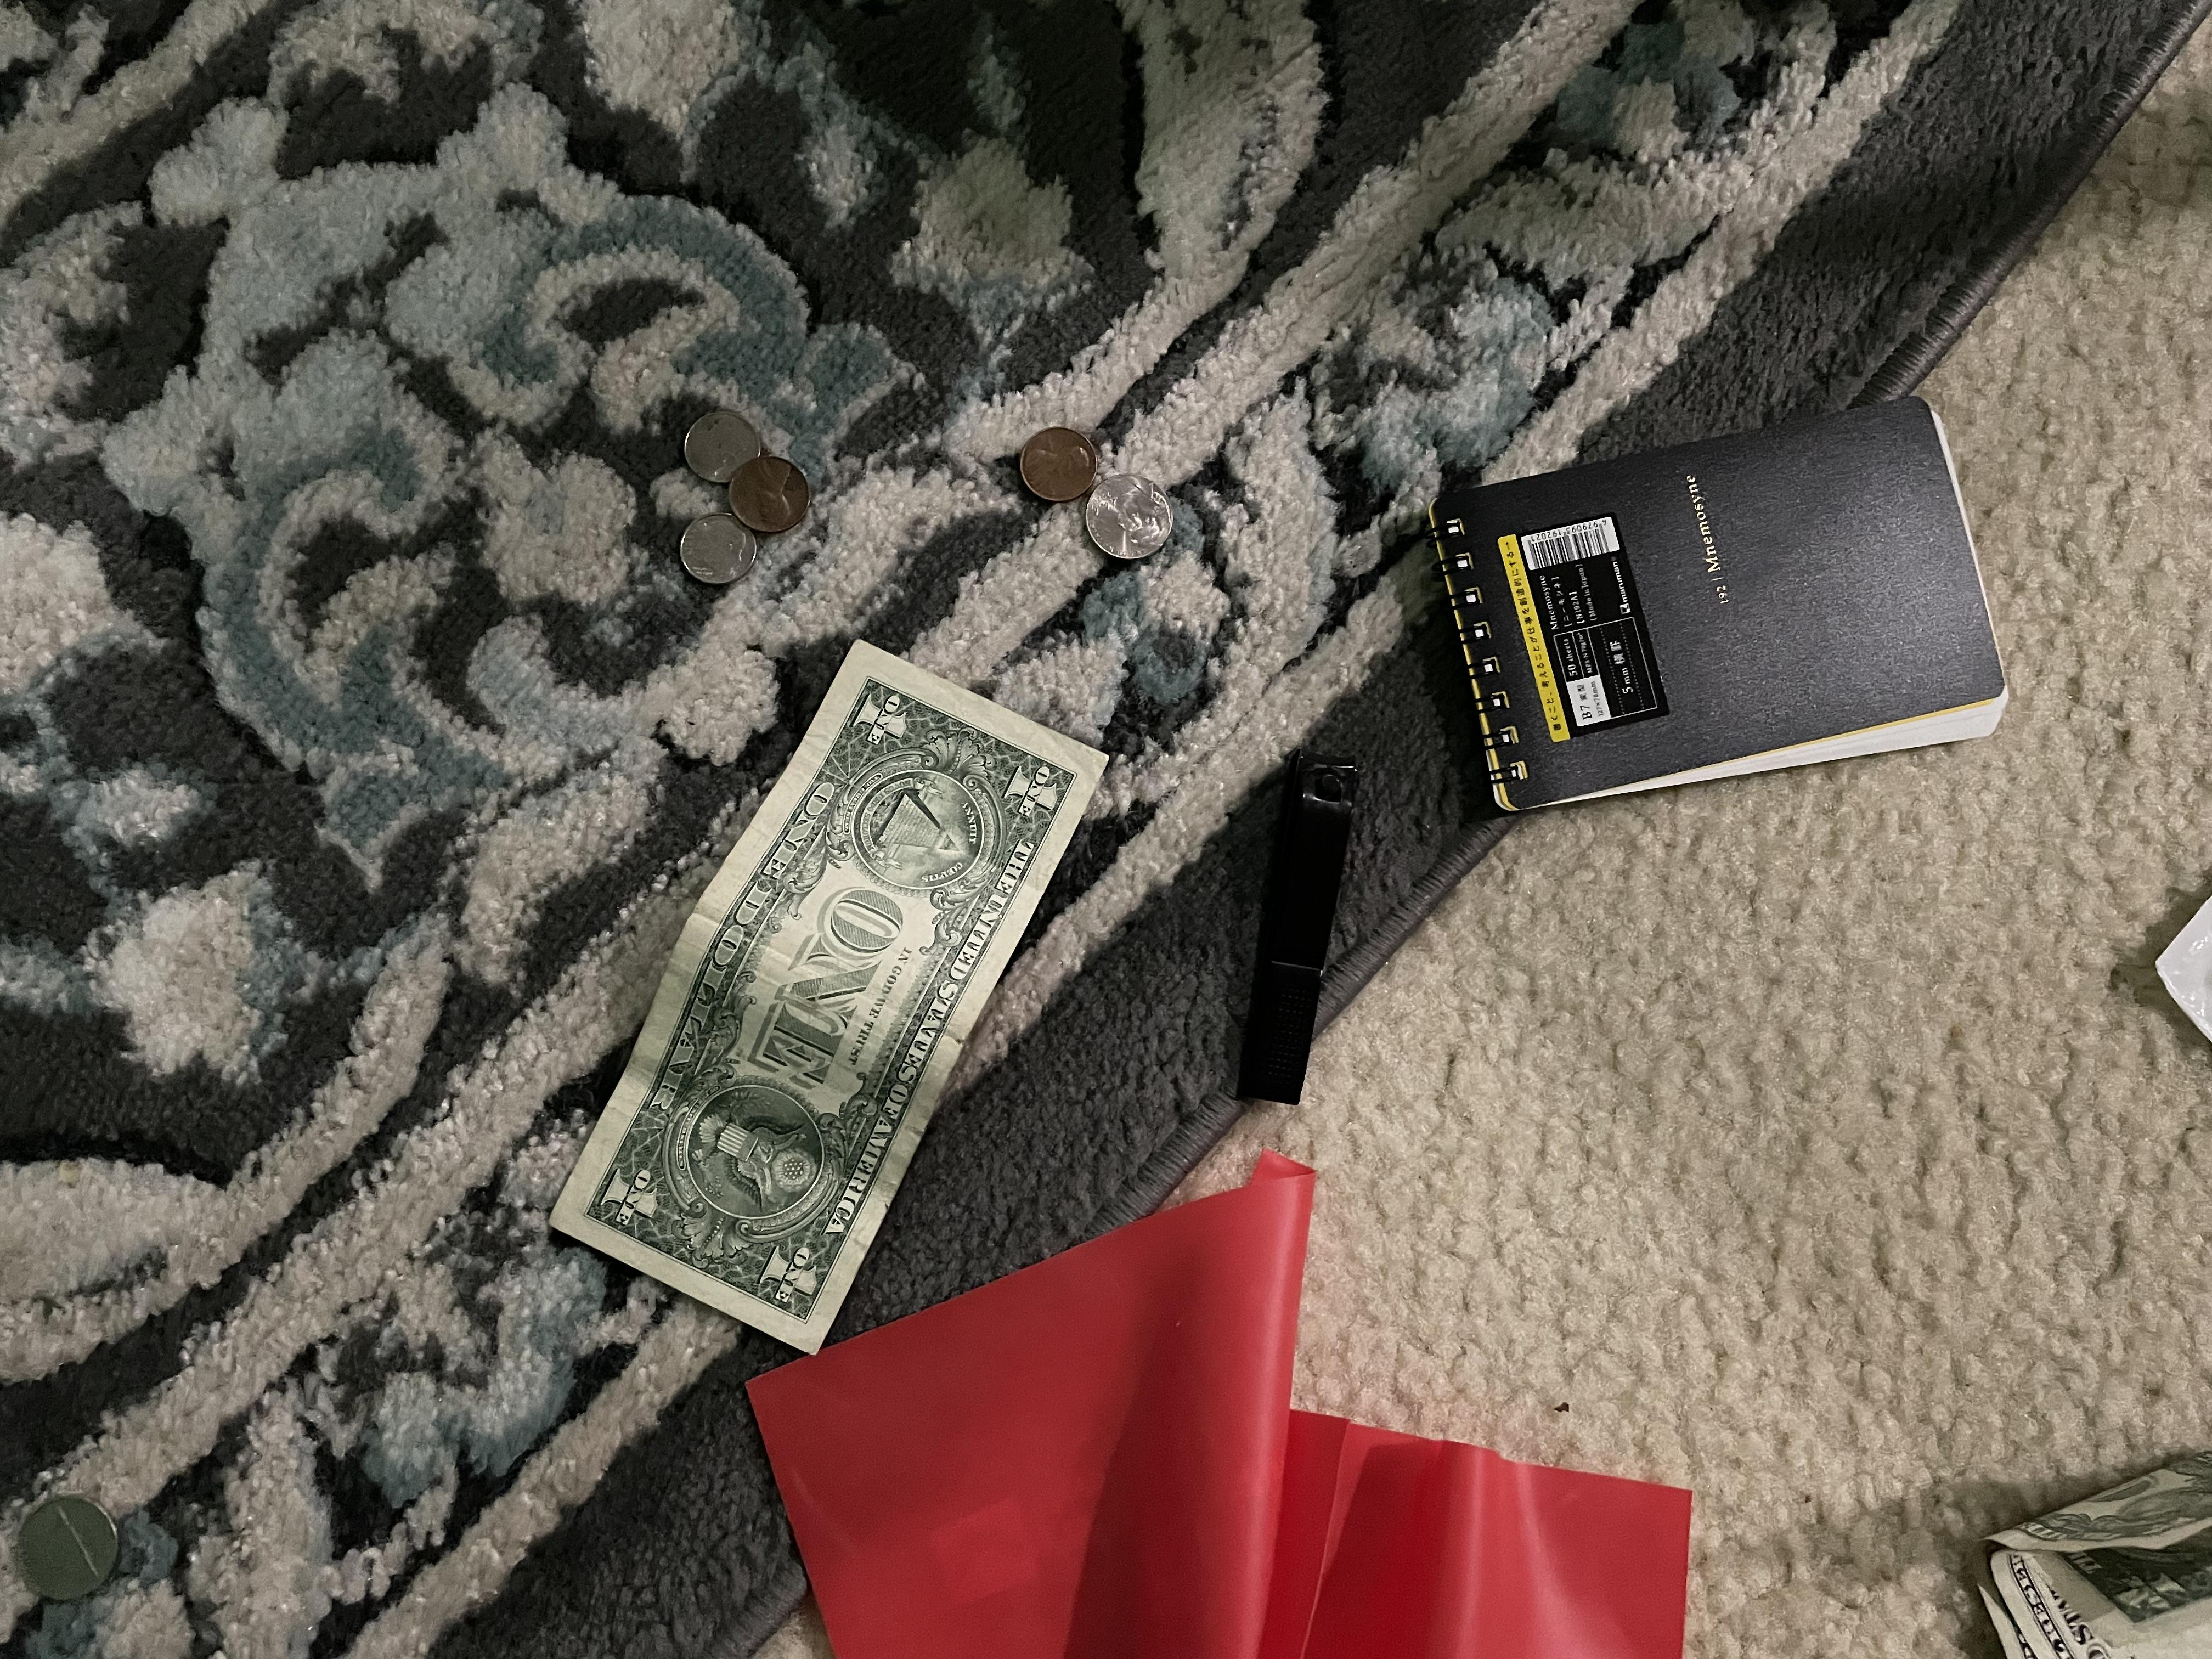Dime: (658, 509, 759, 589), (664, 408, 765, 486)
Nickel: (1082, 471, 1183, 565)
OneBill: (559, 629, 1109, 1351)
Penny: (718, 455, 826, 540), (1000, 427, 1099, 497)
